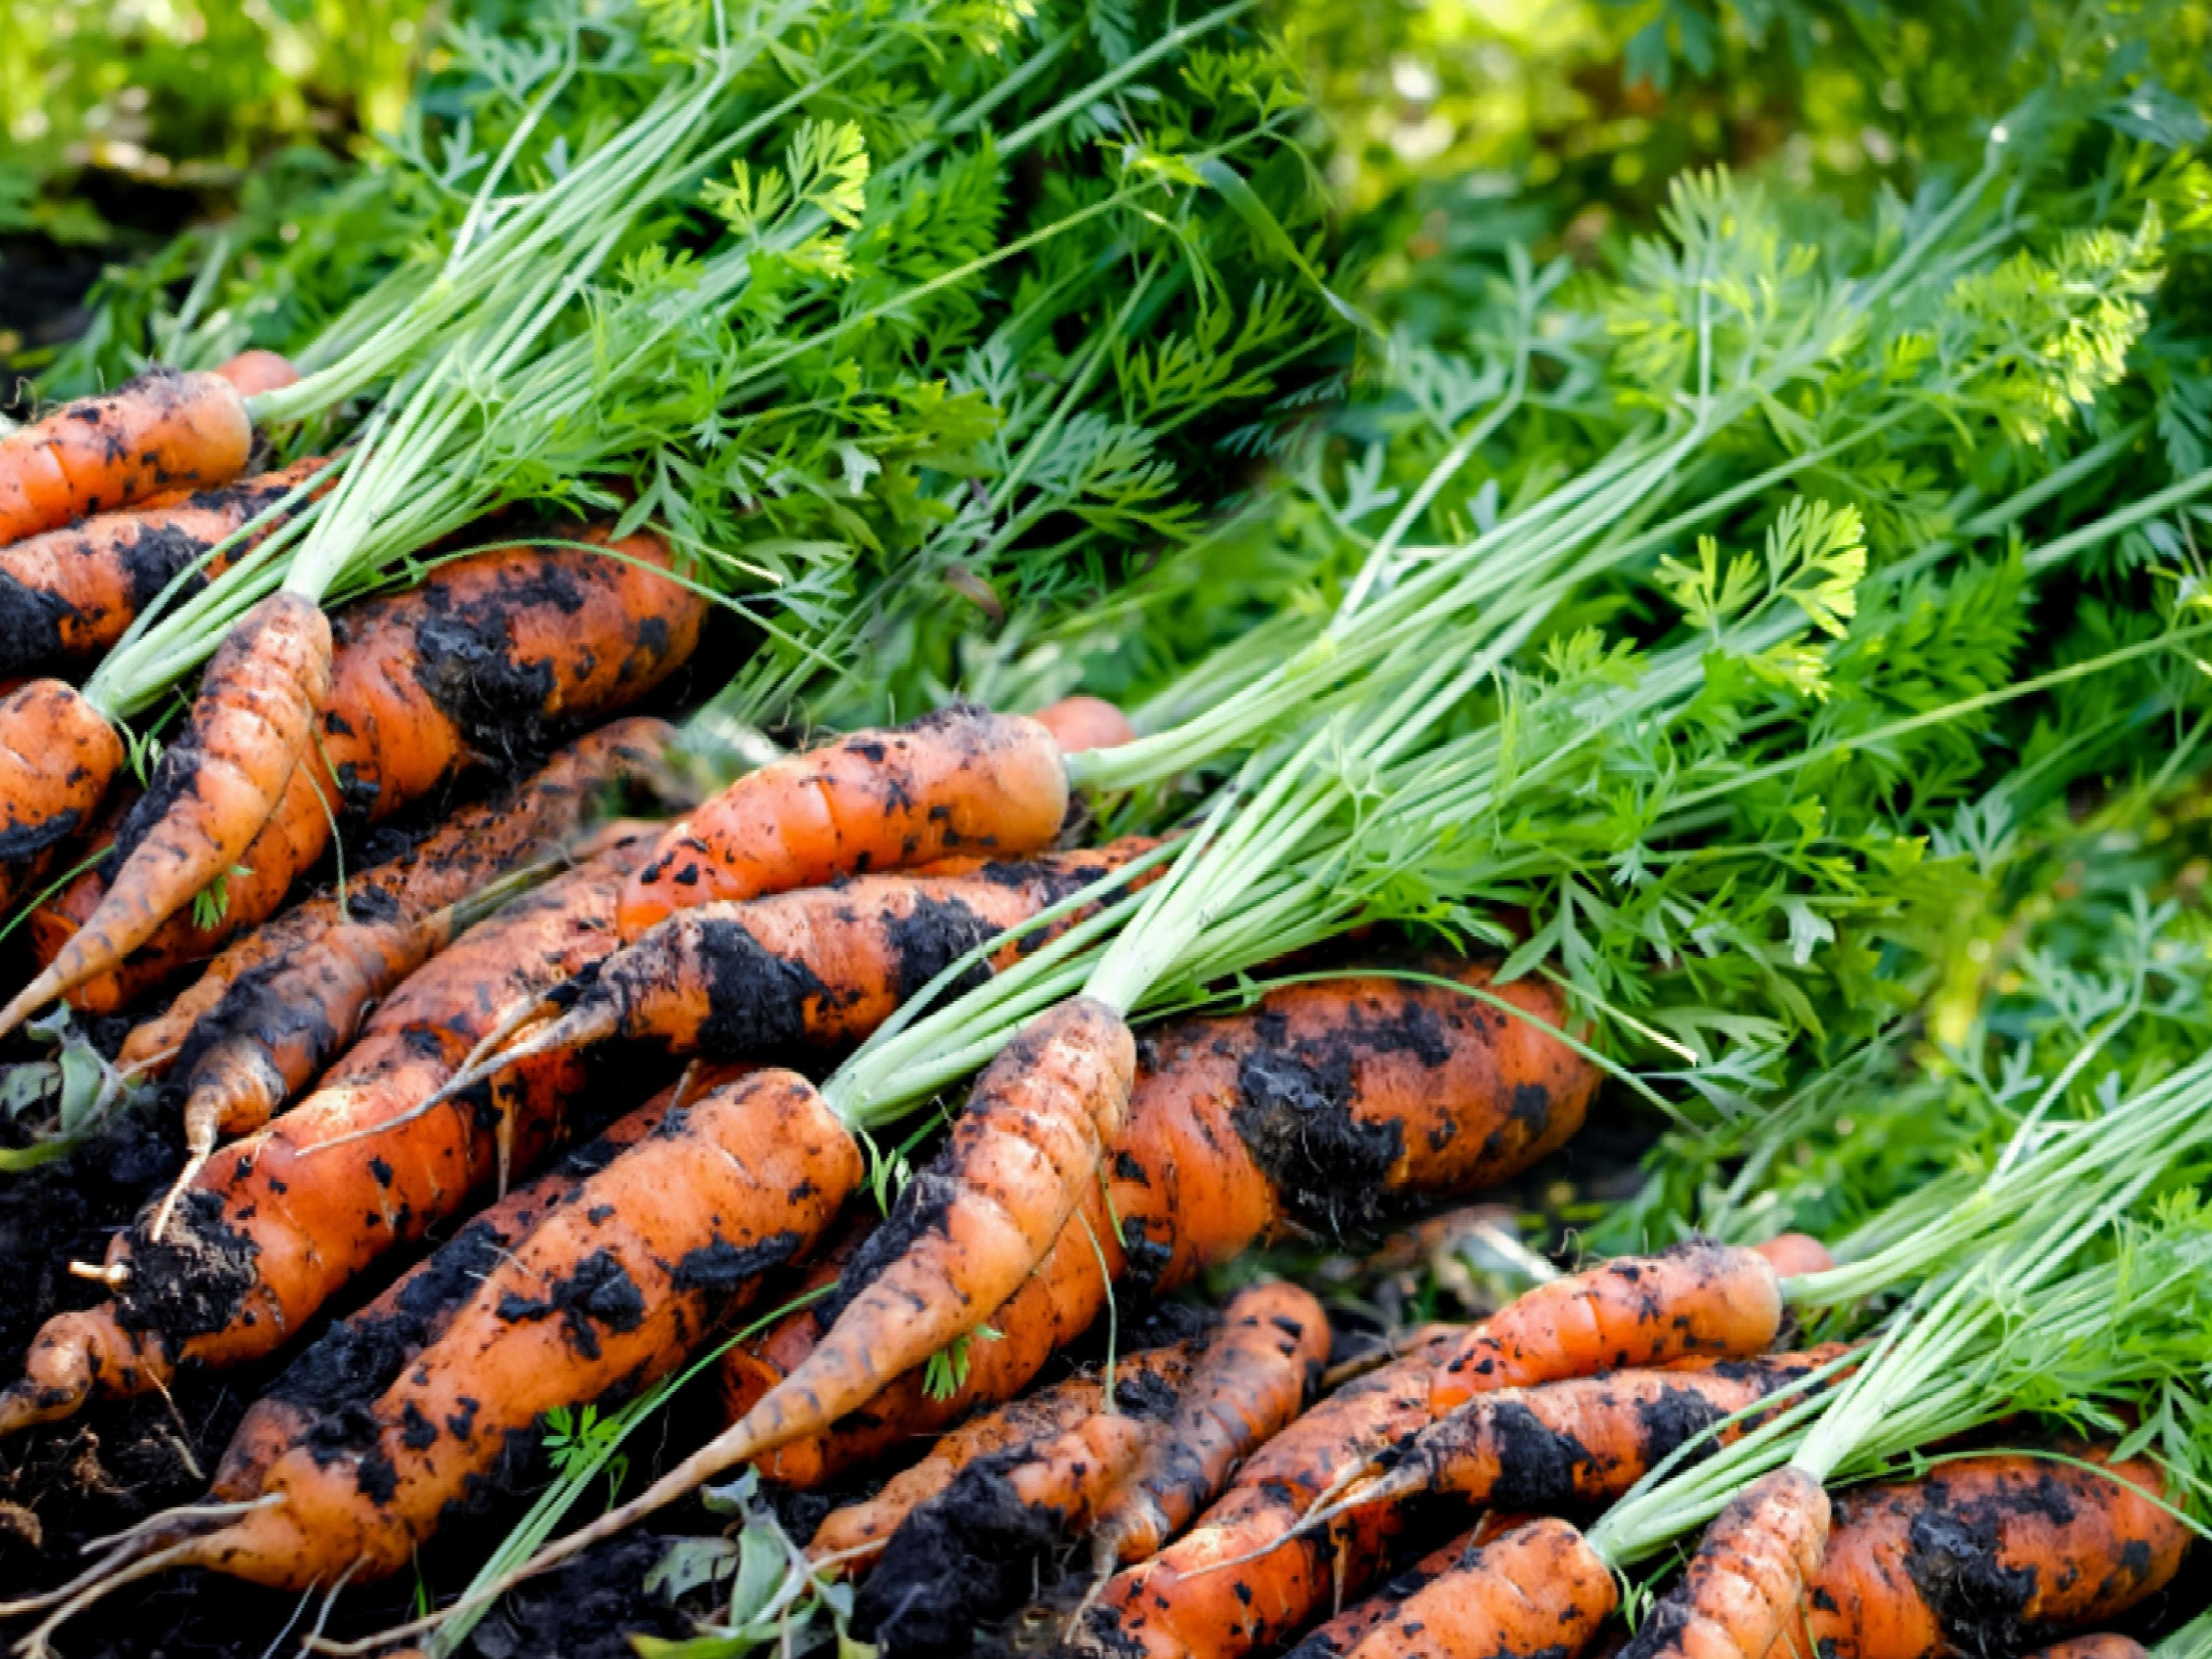carrot: (17, 335, 1858, 1659), (136, 547, 1244, 1659), (592, 1044, 1804, 1659)
